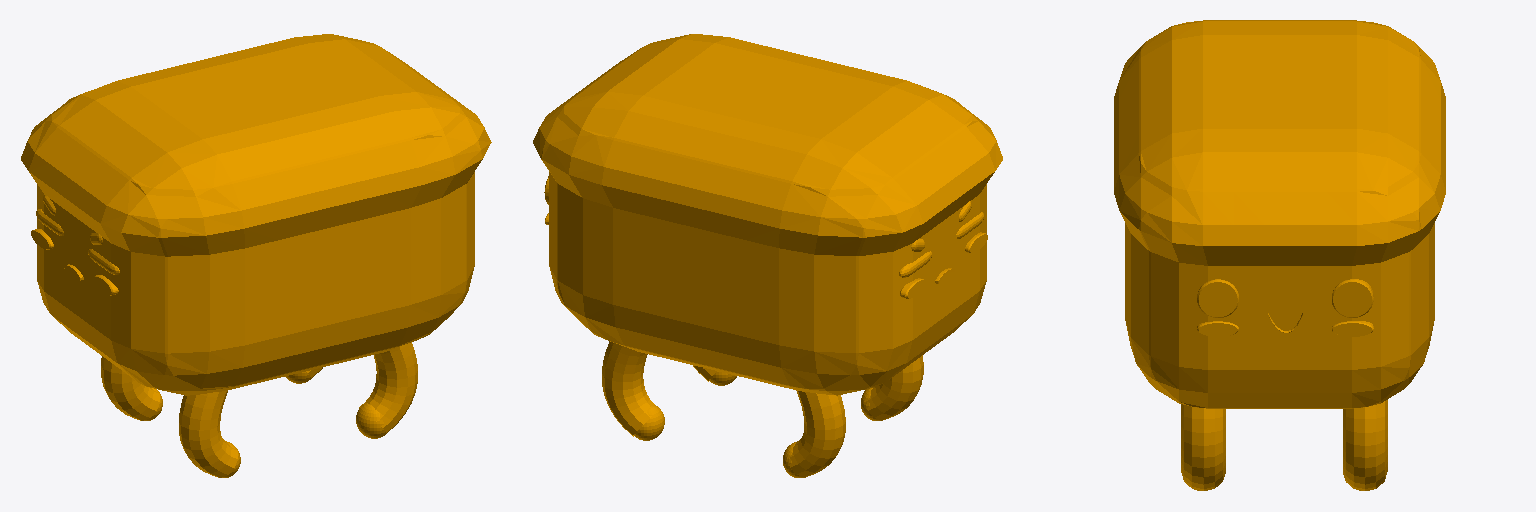
robot.urdf — mesh_object:
<robot name="mesh_object">
            <link name="base">
                <visual>
                    <geometry>
                        <mesh filename="bread-bin_0.obj" scale="1 1 1" />
                    </geometry>
                </visual>
                <collision>
                    <geometry>
                        <mesh filename="bread-bin_0.obj" scale="1 1 1" />
                    </geometry>
                </collision>
                <inertial>
                    <origin xyz="0.000000 0.000000 0.021688" rpy="0 0 0" />
                    <mass value="0.5" />
                    <inertia ixx="0.01" iyy="0.01" izz="0.01" ixy="0" ixz="0" iyz="0" />
                </inertial>
            </link>
            </robot>

--- What the picture shows (computed from the rendered views, not written in the file) ---
3 views of the same robot in one strip: view 1: azimuth 30°, elevation 25°; view 2: azimuth 150°, elevation 25°; view 3: azimuth 270°, elevation 25° (orthographic).
Robot: mesh_object — 1 links, 0 joints (none); root link base; default pose: all joints at 0.
Links seen in each view (by area): view 1: base; view 2: base; view 3: base.
Link boxes in pixels (x1,y1,x2,y2): base: (21,34,491,477); base: (533,34,1002,477); base: (1114,20,1445,490).
Size in the robot's own frame: 0.0512 by 0.0358 by 0.0434 metres.
Meshes: 1 distinct files referenced, 1 mesh visuals loaded (1 OBJ).
